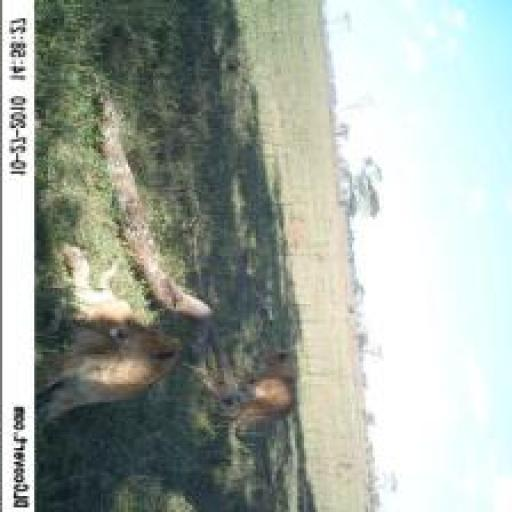lion: (44, 238, 188, 432), (215, 341, 313, 449)
